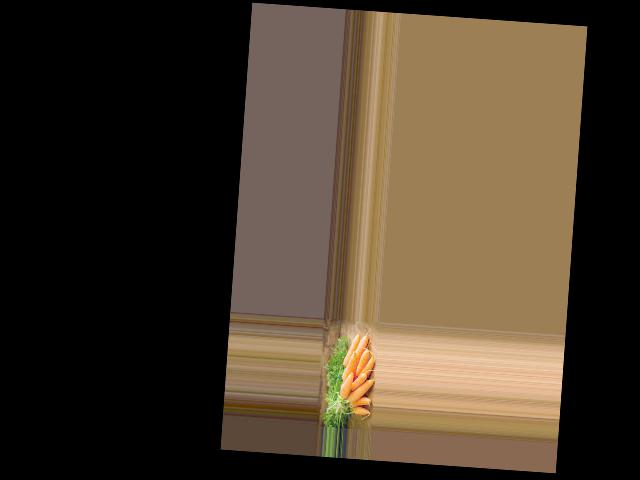carrot: (350, 406, 370, 417)
